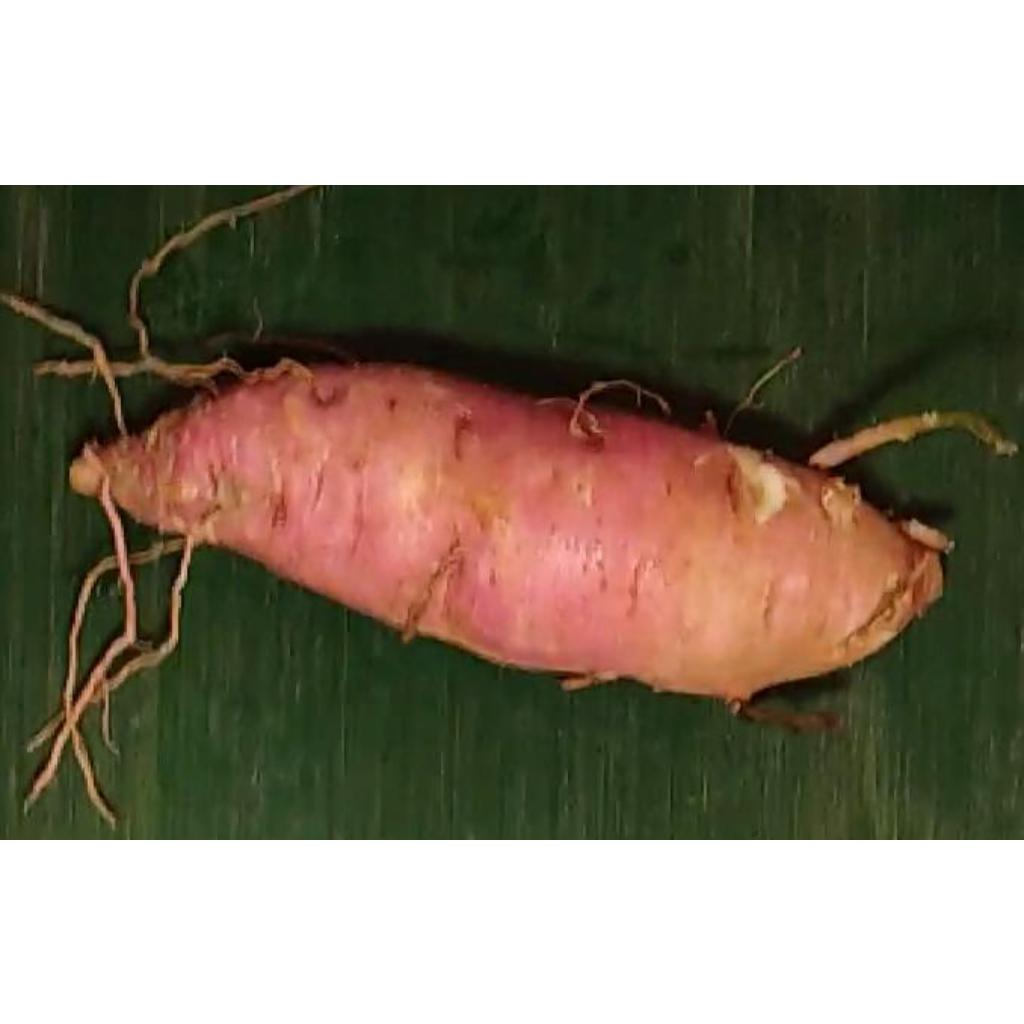Sweet Potato: (65, 358, 952, 716)
